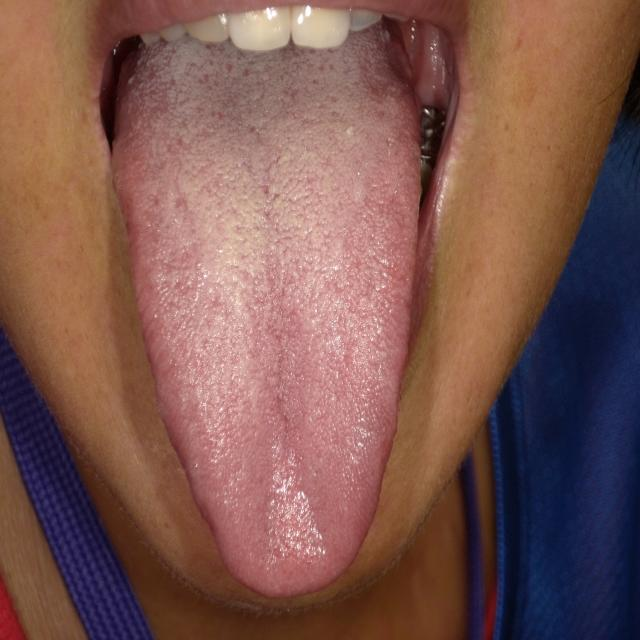baitaishe: (113, 14, 422, 595)
hongdianshe: (246, 123, 259, 135)
